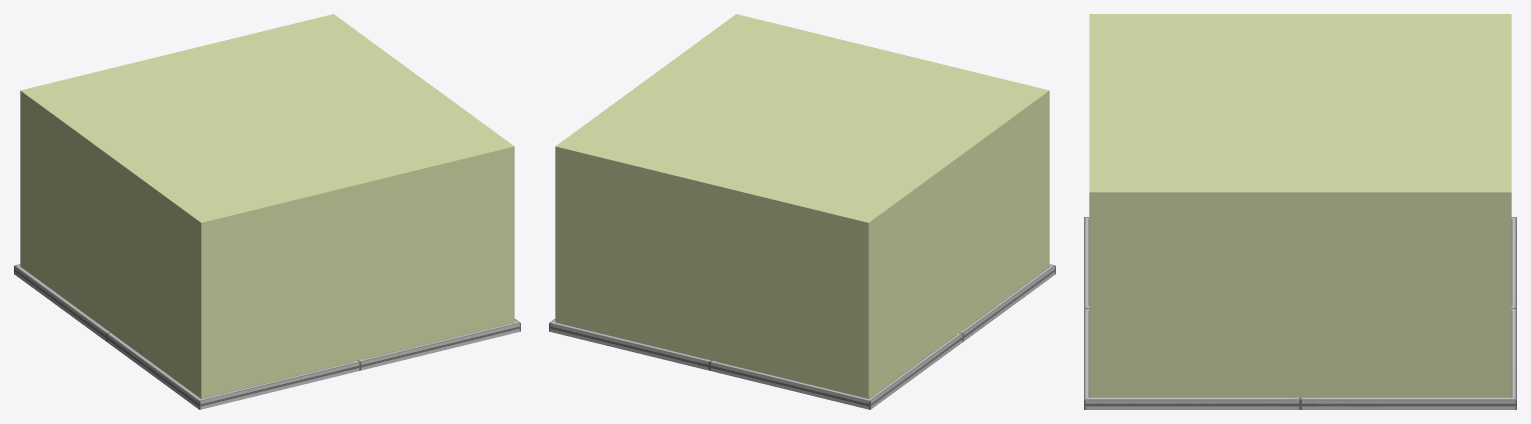
Rendered from Ceiling.fbx.
The picture shows the model from 3 angles, left to right: view 1: azimuth 30°, elevation 25°; view 2: azimuth 150°, elevation 25°; view 3: azimuth 270°, elevation 25°; orthographic projection. The views are drawn at different scales.
Parts seen in each view (by area): view 1: CeilongBox, CeilingPanel; view 2: CeilongBox, CeilingPanel; view 3: CeilongBox, CeilingPanel.
Part boxes in pixels (x1,y1,x2,y2): CeilongBox: [20, 14, 514, 398]; CeilingPanel: [14, 264, 520, 409]; CeilongBox: [555, 14, 1049, 398]; CeilingPanel: [549, 264, 1055, 409]; CeilongBox: [1089, 14, 1511, 397]; CeilingPanel: [1084, 217, 1516, 409].
Size of the model in its own units: 624 by 343 by 624.
